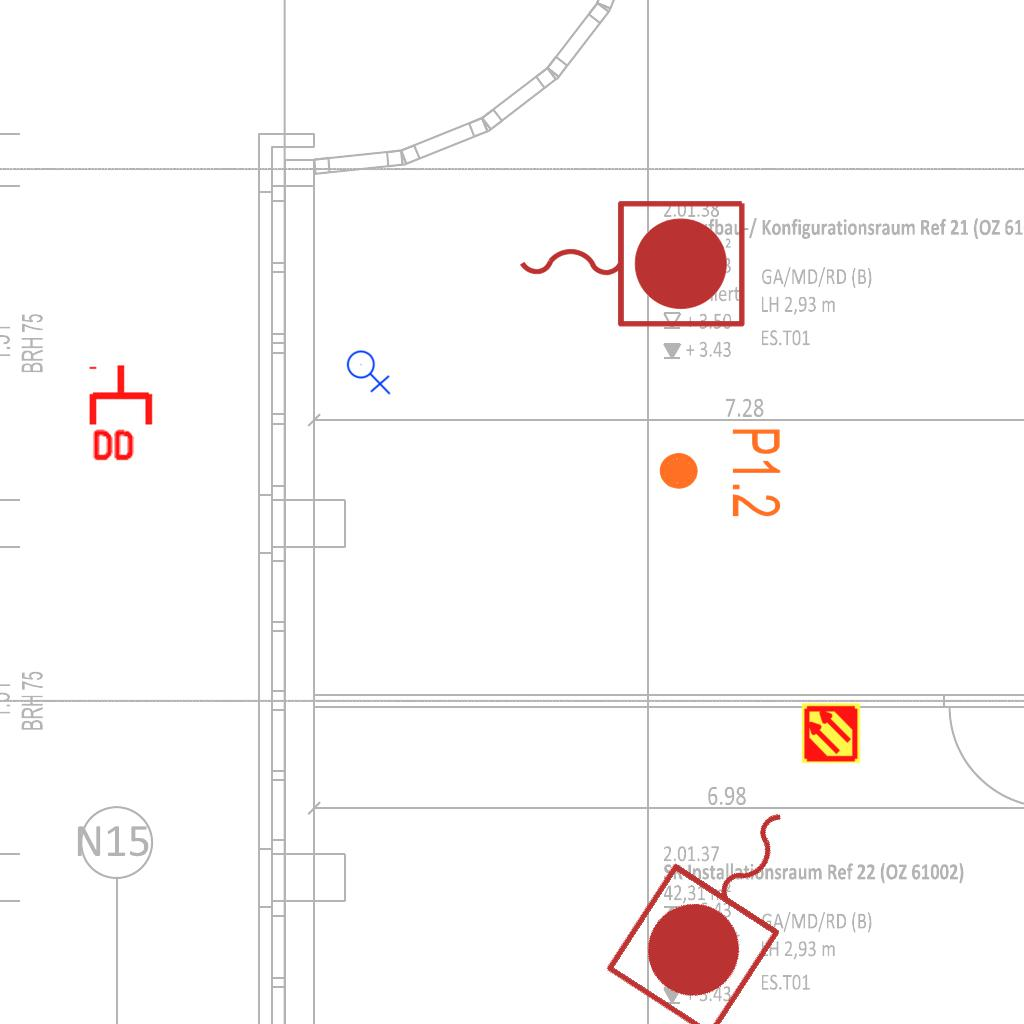ASR_Ansaugrauchmelder: (800, 702, 862, 764)
Datenanschluss_zweifach: (88, 362, 157, 465)
Downlight_LED_Einbauleuchten_Flur: (656, 426, 784, 519)
Elektroanschluss_allgemein_230V_Geraeteanschlussdose_230V: (346, 346, 393, 395)
Zugtaster: (595, 767, 849, 1024), (509, 190, 753, 334)
